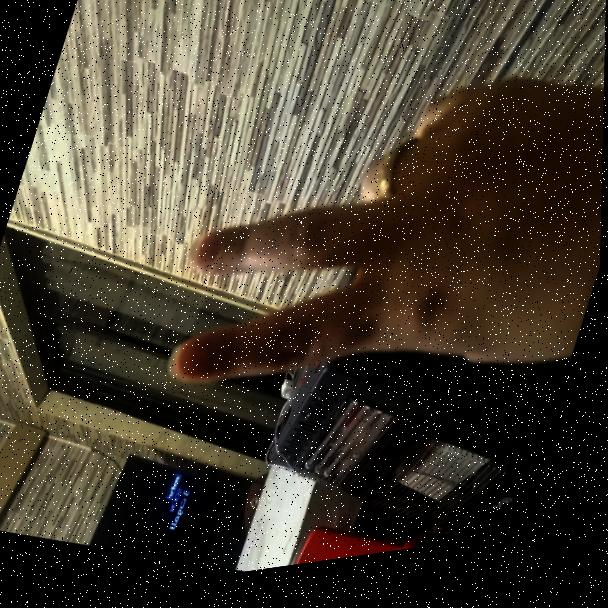two: (141, 42, 606, 505)
